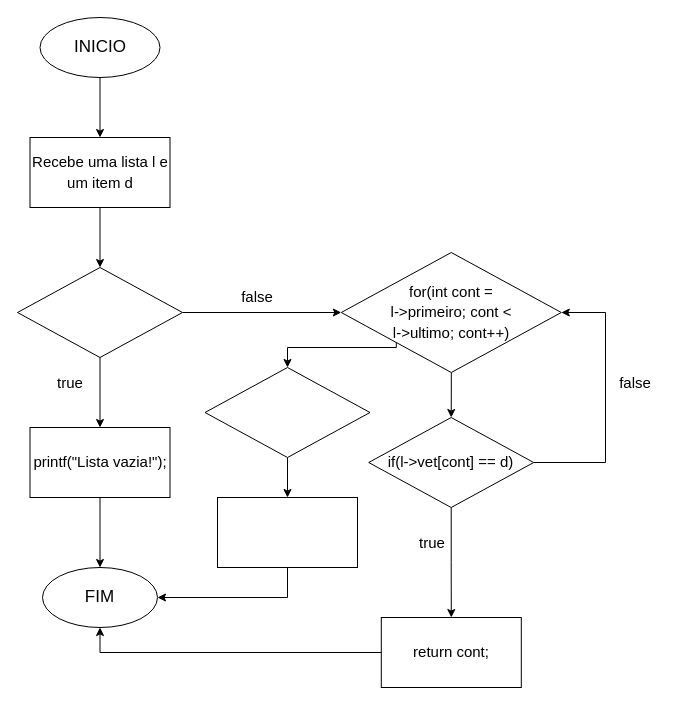
The diagram is 682 pixels wide and 705 high, and some of its shapes have lost their labels. Here are the shapes that lost their labels. From the top down, the centre of each, then its label:
pixel 99 312: if(l->primeiro == l->ultimo)
pixel 287 412: if( cont == l->ultimo )
pixel 287 532: printf("Item não encontrado!");
